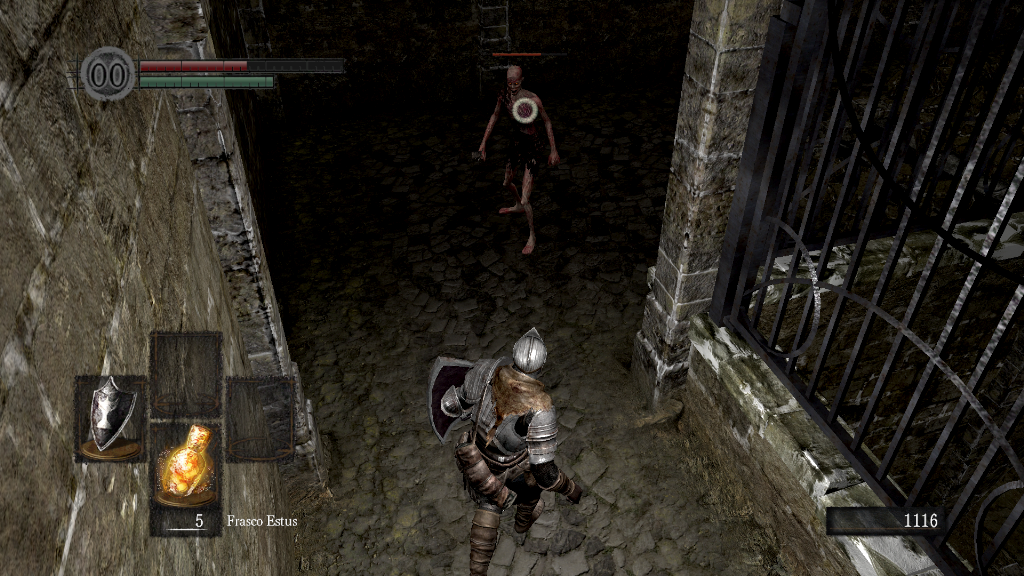health: (138, 58, 343, 71)
hollow: (464, 64, 564, 257)
humanity: (80, 45, 136, 102)
player: (426, 324, 585, 576)
souls: (825, 506, 945, 536)
stamina: (138, 74, 274, 88)
